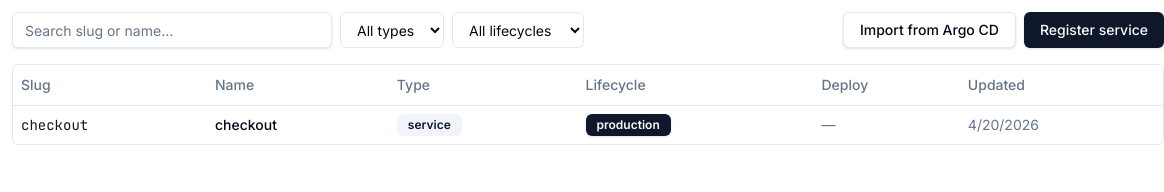
Test: ServicesTable › renders 'no matches' when filter yields zero rows
This screenshot has width=1164, height=192.
Type "zzznotfound" into the field named "search services" at {"x": 172, "y": 30}, box [12,12,332,48]
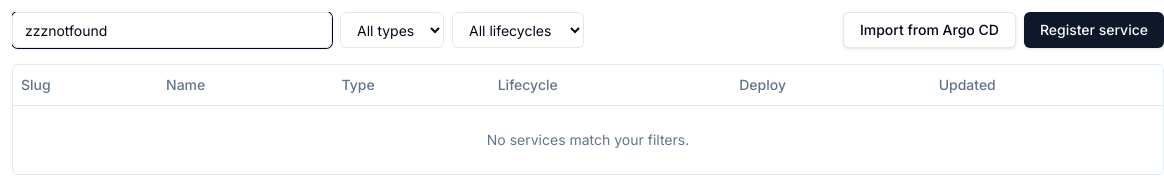
Expected: the text "No services match your filters." is shown, [13,105,1163,174]
